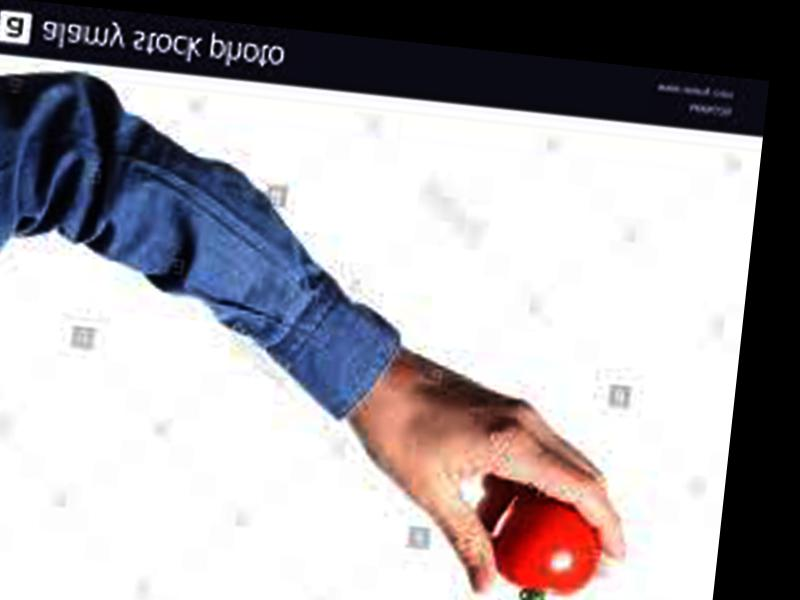Tomato: (493, 497, 606, 596)
